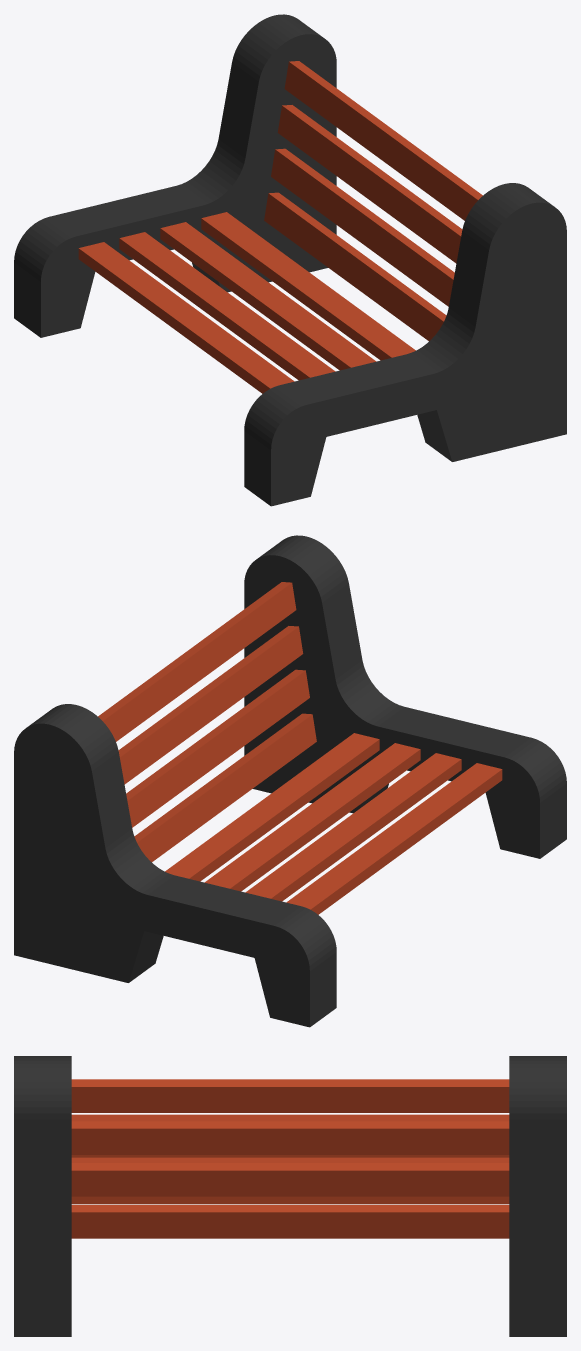
Rendered from Bench.fbx.
3 views of the same model, one above another, from view 1: azimuth 30°, elevation 25°; view 2: azimuth 150°, elevation 25°; view 3: azimuth 270°, elevation 25° (orthographic). The views are drawn at different scales.
Parts seen in each view (by area): view 1: bench_blue, bench_blue.001; view 2: bench_blue, bench_blue.001; view 3: bench_blue.001, bench_blue.
Part boxes in pixels (<box>): bench_blue: <box>14,14,566,506</box>; bench_blue.001: <box>78,61,482,393</box>; bench_blue: <box>14,535,566,1027</box>; bench_blue.001: <box>98,582,502,914</box>; bench_blue.001: <box>71,1079,509,1238</box>; bench_blue: <box>14,1056,566,1336</box>.
Bounding box in the file's own units: 44.41 × 34.32 × 66.81.
